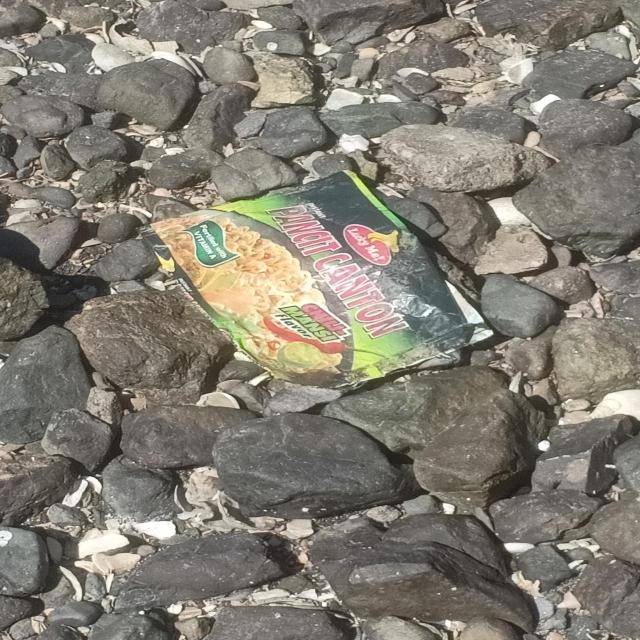plastic_waste: (135, 170, 495, 390)
